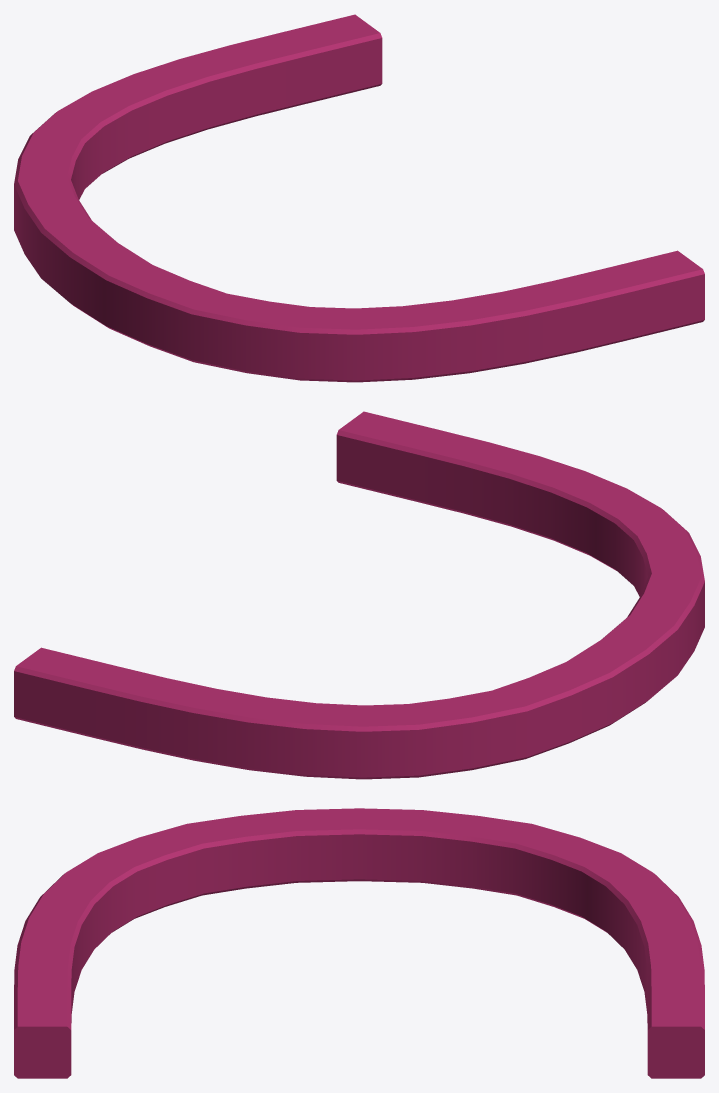
Rendered from collector.fbx.
3 views of the same model, one above another, from view 1: azimuth 30°, elevation 25°; view 2: azimuth 150°, elevation 25°; view 3: azimuth 270°, elevation 25° (orthographic).
Parts seen in each view (by area): view 1: magnet; view 2: magnet; view 3: magnet.
Part boxes in pixels (x1,y1,x2,y2): magnet: (14, 14, 704, 382); magnet: (14, 411, 704, 779); magnet: (14, 808, 704, 1078).
Bounding box in the file's own units: 9.1 × 1 × 12.08.
